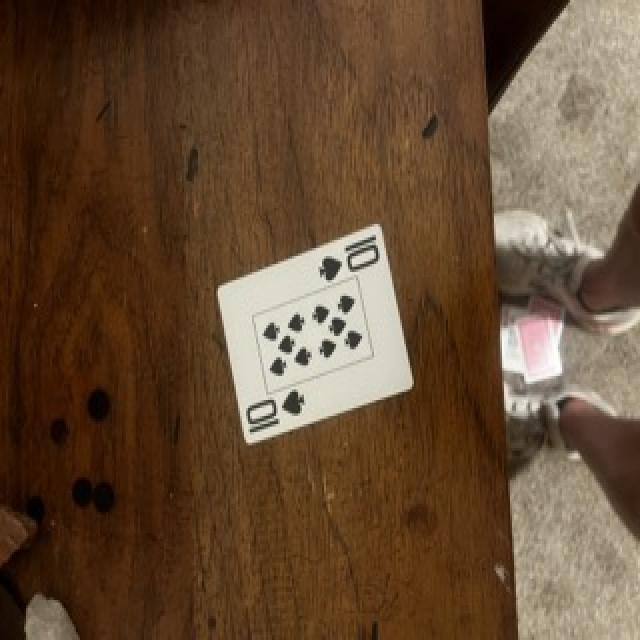10 of spades: (218, 223, 414, 443)
